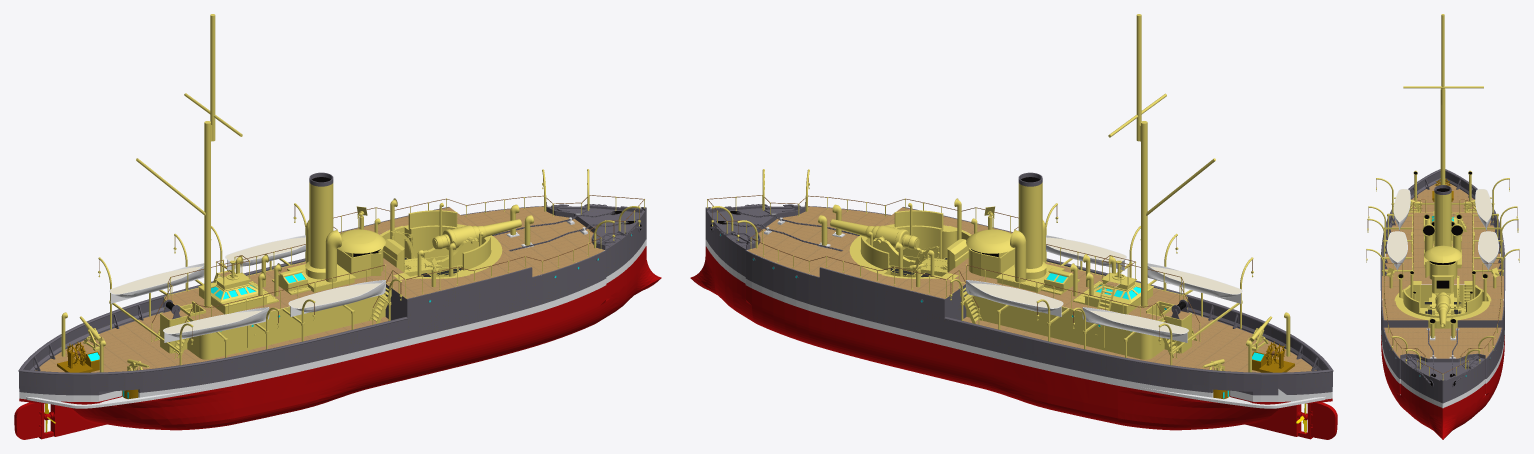
File: FRIGATE.glb
3 views of the same model, side by side, from view 1: azimuth 30°, elevation 25°; view 2: azimuth 150°, elevation 25°; view 3: azimuth 270°, elevation 25° (orthographic). The views are drawn at different scales.
Visible parts, largest first — view 1: Material2 (×2), Material3; view 2: Material2 (×2), Material3; view 3: Material2 (×2), Material3.
Boxes of the visible parts, box(x1,y1,x2,y2) form: Material2 (×2): box(14, 14, 661, 439); Material3: box(74, 178, 644, 355); Material2 (×2): box(690, 14, 1337, 439); Material3: box(707, 178, 1277, 355); Material2 (×2): box(1366, 14, 1519, 439); Material3: box(1366, 180, 1519, 373).
Bounding box in the file's own units: 2008 × 1133 × 575.
Materials: 5 (5 with a texture image).
